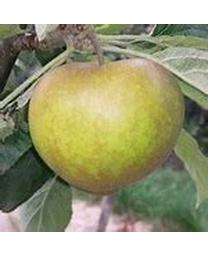apple: (28, 59, 186, 195)
